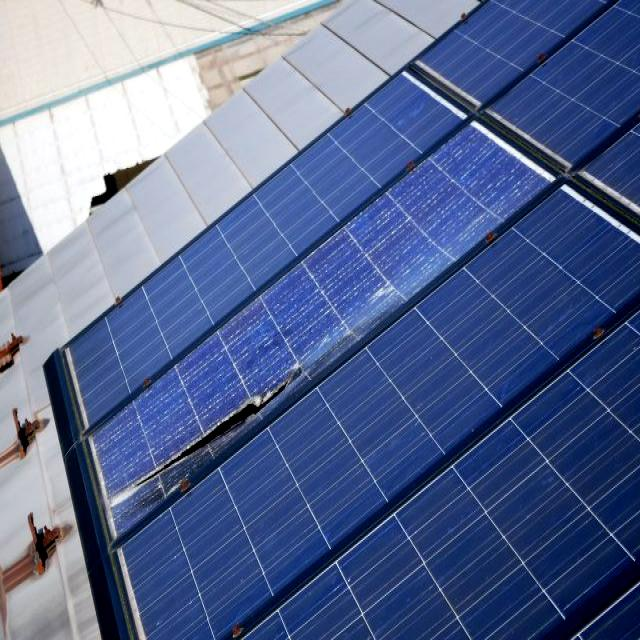hotspot: (94, 326, 300, 544)
